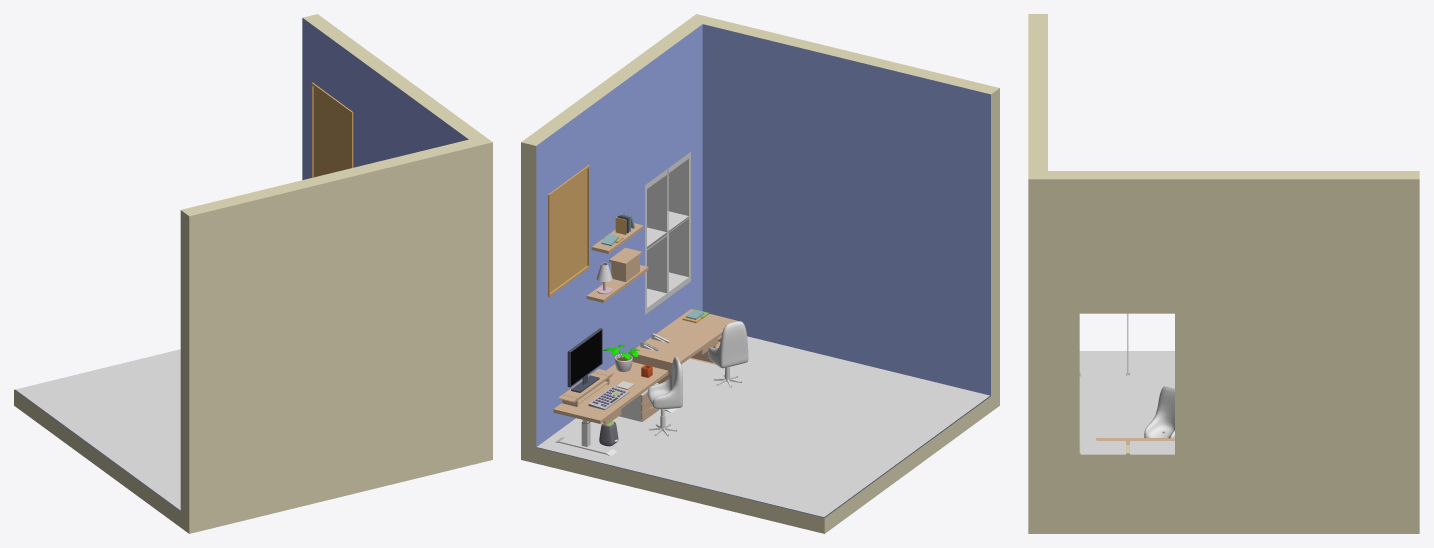
The picture shows the model from 3 angles, left to right: view 1: azimuth 30°, elevation 25°; view 2: azimuth 150°, elevation 25°; view 3: azimuth 270°, elevation 25°; orthographic projection. The views are drawn at different scales.
Visible parts, largest first — view 1: wrap, Floor, khungtreotuong; view 2: wrap, Floor, window, khungtreotuong, Table Top.014, Table Top, Lập Phương.017, Lập Phương.007, PC_CV, BookShelf.002, GiaDo, PC (+1 smaller); view 3: wrap, Floor, window, Lập Phương.017.
Part boxes in pixels (x1,y1,x2,y2): wrap: (14,14,492,533); Floor: (15,349,180,510); khungtreotuong: (311,82,353,177); wrap: (521,14,999,533); Floor: (537,336,989,516); window: (645,152,690,314); khungtreotuong: (548,165,589,296); Table Top.014: (630,309,737,366); Table Top: (553,362,668,423); Lập Phương.017: (708,321,748,368); Lập Phương.007: (647,356,682,409); PC_CV: (571,330,601,385); BookShelf.002: (609,247,642,281); GiaDo: (558,369,613,406); PC: (567,328,602,392); wrap: (1028,14,1419,533); Floor: (1079,351,1174,444); window: (1079,313,1174,454); Lập Phương.017: (1144,386,1174,438).
Size of the model in its own units: 36.99 by 35.91 by 35.91.
